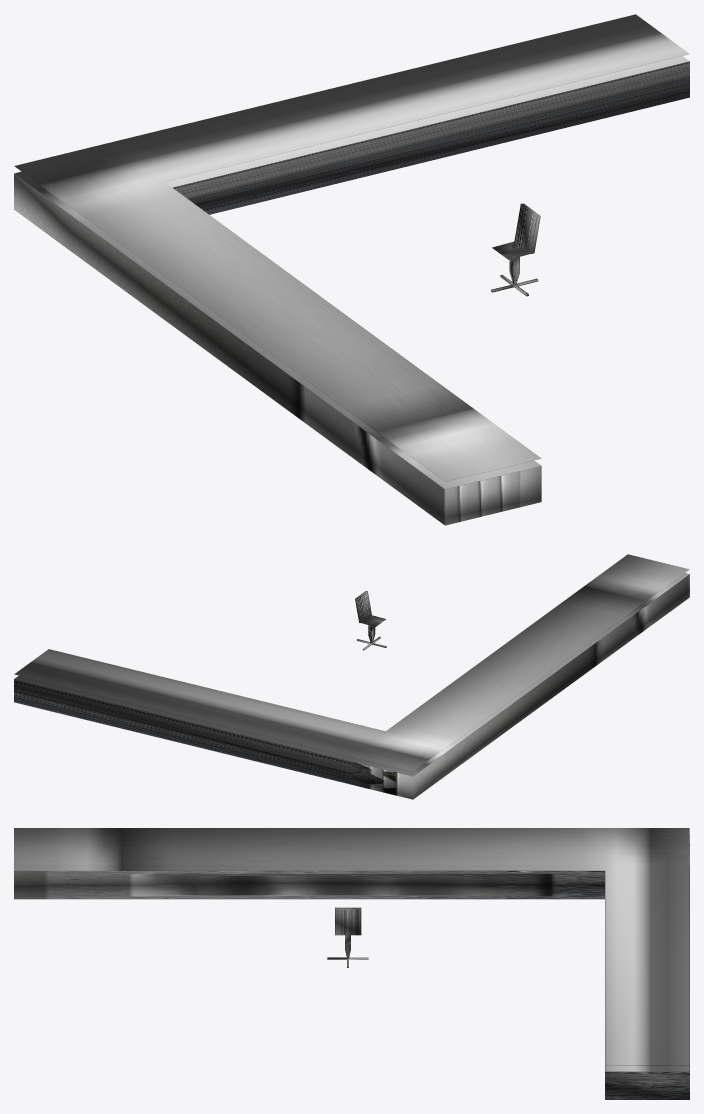
File: ship part3.fbx
3 renders of one model, top to bottom at view 1: azimuth 30°, elevation 25°; view 2: azimuth 150°, elevation 25°; view 3: azimuth 270°, elevation 25°, orthographic. The views are drawn at different scales.
Visible parts, largest first — view 1: top.008, top.003, top.007, top.006; view 2: top.008, top.003, top.007, top.006; view 3: top.008, top.003, top.007, top.006.
Boxes of the visible parts, x1,y1,x2,y2 form: top.008: (14,14,689,481); top.003: (14,61,689,525); top.007: (14,56,689,489); top.006: (491,203,540,296); top.008: (14,554,689,771); top.003: (14,574,689,799); top.007: (14,573,689,776); top.006: (355,591,386,650); top.008: (14,828,689,1065); top.003: (14,834,689,1099); top.007: (14,865,689,1071); top.006: (327,907,368,967).
Size of the model in its own units: 10224 by 1371 by 12279.
Materials: 1 (1 with a texture image).
